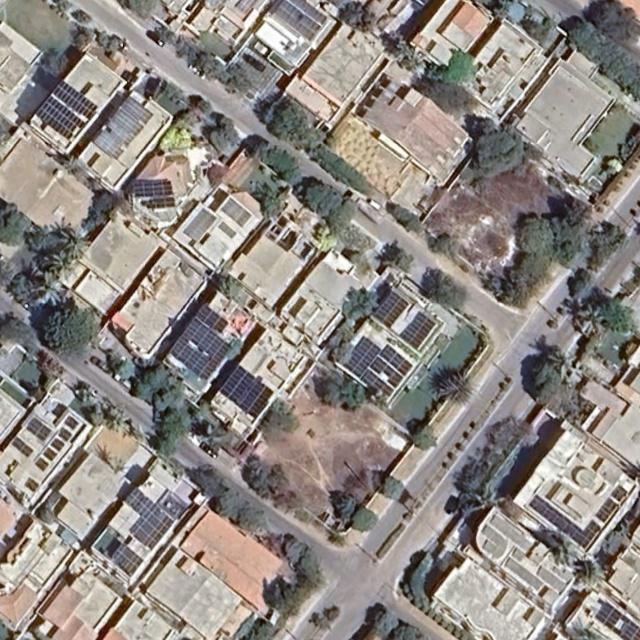solar panel: (525, 484, 601, 550), (168, 318, 233, 381), (112, 487, 177, 550), (93, 96, 150, 157), (218, 364, 275, 418), (35, 95, 86, 141), (275, 0, 328, 41), (594, 601, 640, 640), (52, 80, 96, 119), (343, 336, 381, 378), (373, 290, 410, 329), (400, 310, 437, 349), (379, 344, 414, 376), (369, 356, 404, 388), (111, 543, 144, 575), (362, 369, 396, 398), (195, 304, 229, 332), (133, 177, 173, 198), (25, 417, 53, 442), (594, 498, 618, 524), (10, 436, 34, 458), (145, 197, 176, 210), (611, 485, 627, 501), (42, 446, 58, 461), (50, 437, 66, 452), (64, 415, 79, 430), (35, 457, 49, 472), (58, 427, 73, 441)
